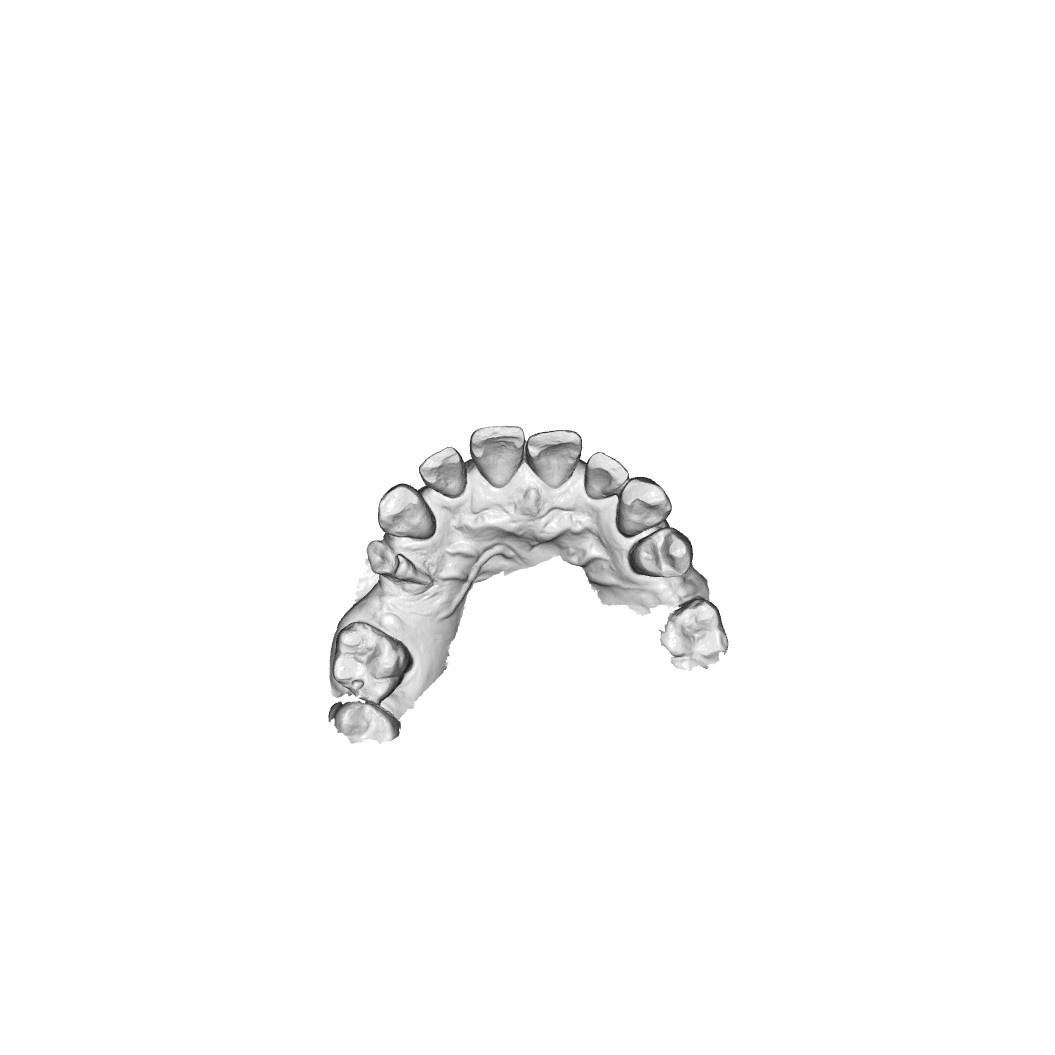canine: (374, 484, 436, 540), (617, 478, 672, 534)
incisor: (469, 427, 522, 491), (529, 431, 585, 486), (420, 447, 465, 493), (584, 454, 620, 497)
molar: (332, 616, 411, 705)
premolar: (625, 531, 690, 583)
